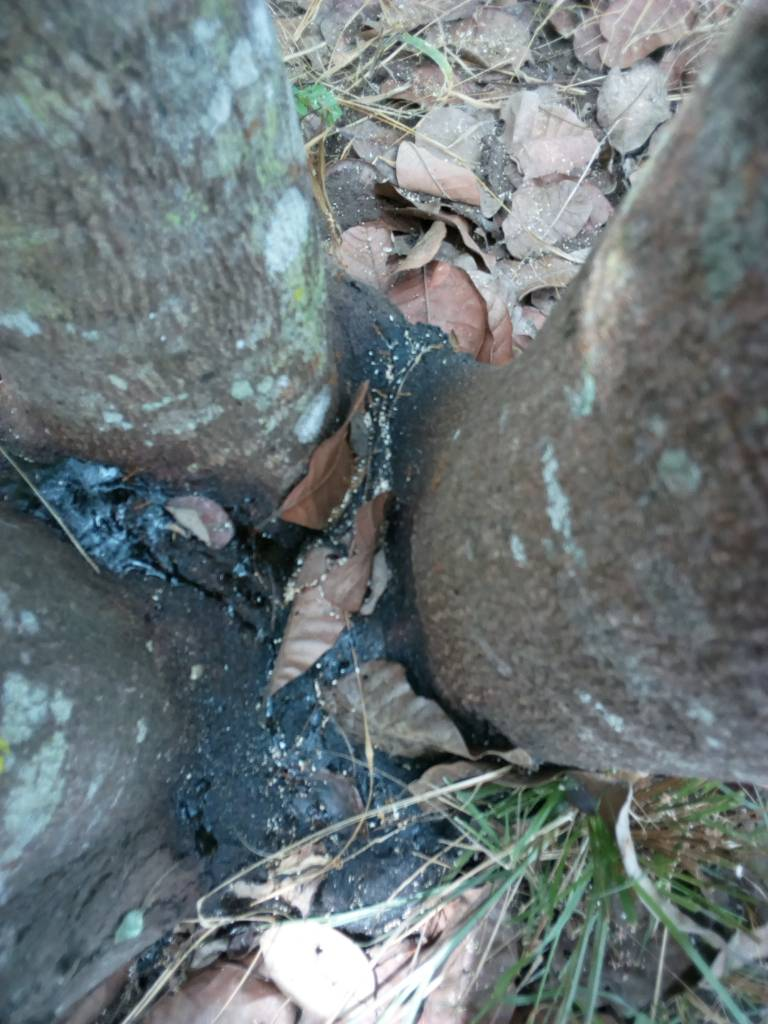Gommose: (191, 302, 468, 886)
